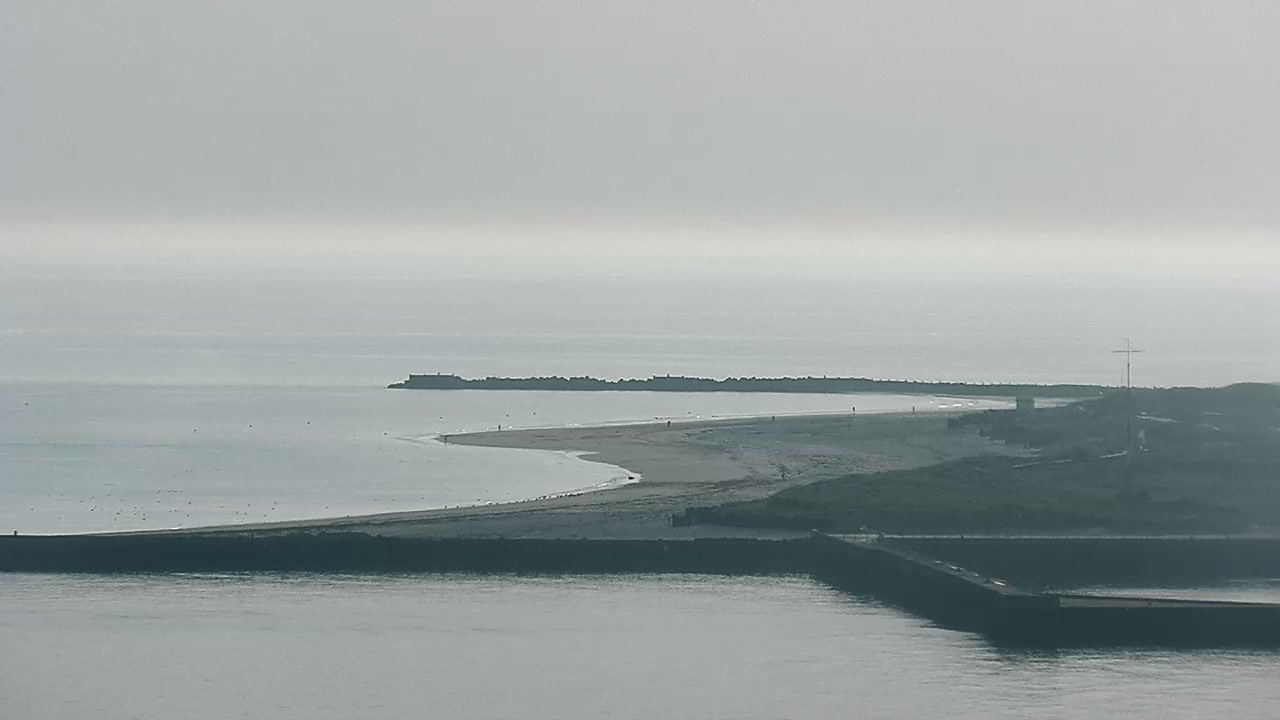human: (443, 434, 448, 444), (497, 423, 502, 432), (666, 419, 671, 428), (851, 406, 856, 415), (911, 405, 916, 414), (771, 414, 776, 422)
